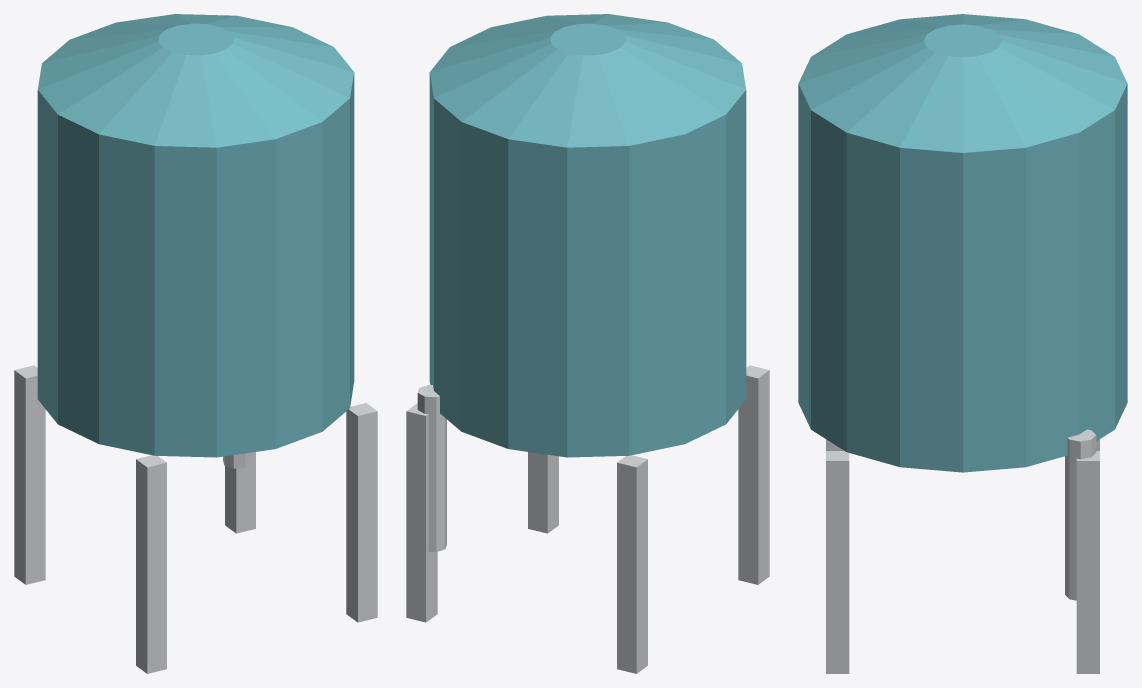
File: water_tank.glb
3 views of the same model, side by side, from view 1: azimuth 30°, elevation 25°; view 2: azimuth 150°, elevation 25°; view 3: azimuth 270°, elevation 25° (orthographic). The views are drawn at different scales.
Parts seen in each view (by area): view 1: water_tank; view 2: water_tank; view 3: water_tank.
Boxes of the visible parts, bbox=[...] form: water_tank: bbox=[14, 14, 377, 673]; water_tank: bbox=[406, 14, 769, 673]; water_tank: bbox=[798, 14, 1127, 673].
Size of the model in its own units: 0.84 by 1.62 by 0.84.
